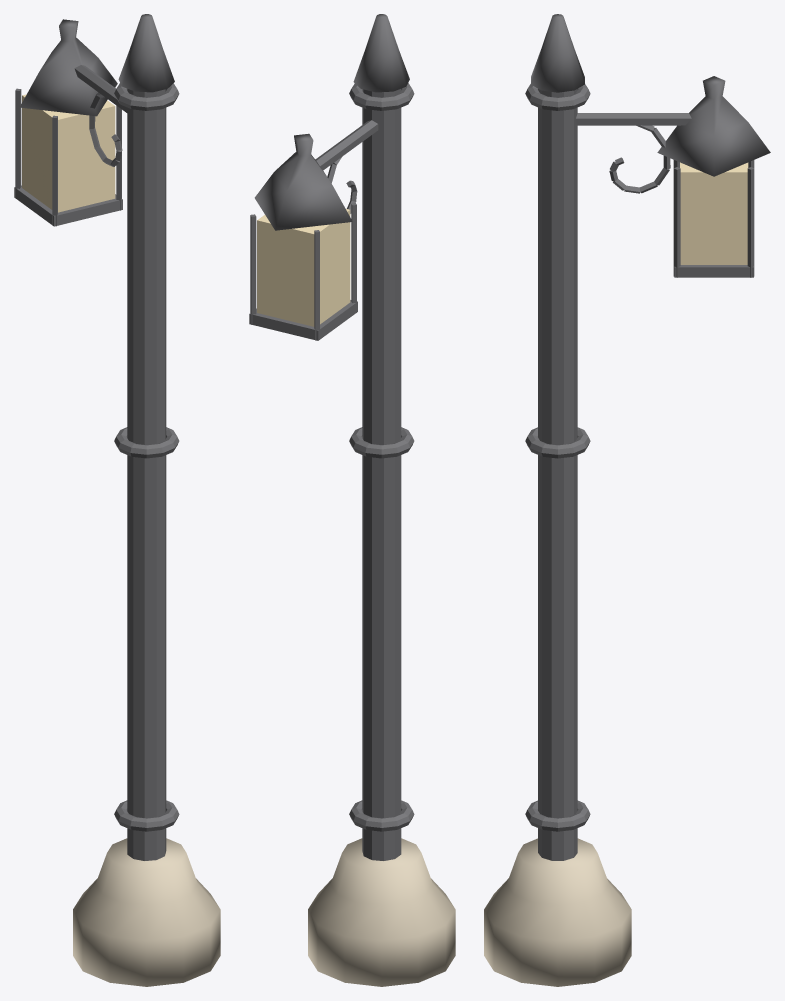
The model's file is street_lamp.glb.
The picture shows the model from 3 angles, left to right: view 1: azimuth 30°, elevation 25°; view 2: azimuth 150°, elevation 25°; view 3: azimuth 270°, elevation 25°; orthographic projection.
Parts seen in each view (by area): view 1: street_lamp; view 2: street_lamp; view 3: street_lamp.
Part boxes in pixels (x1=…): street_lamp: x1=14, y1=14, x2=220, y2=986; street_lamp: x1=249, y1=14, x2=455, y2=986; street_lamp: x1=484, y1=14, x2=770, y2=986.
Size of the model in its own units: 0.52 by 3.65 by 1.01.
